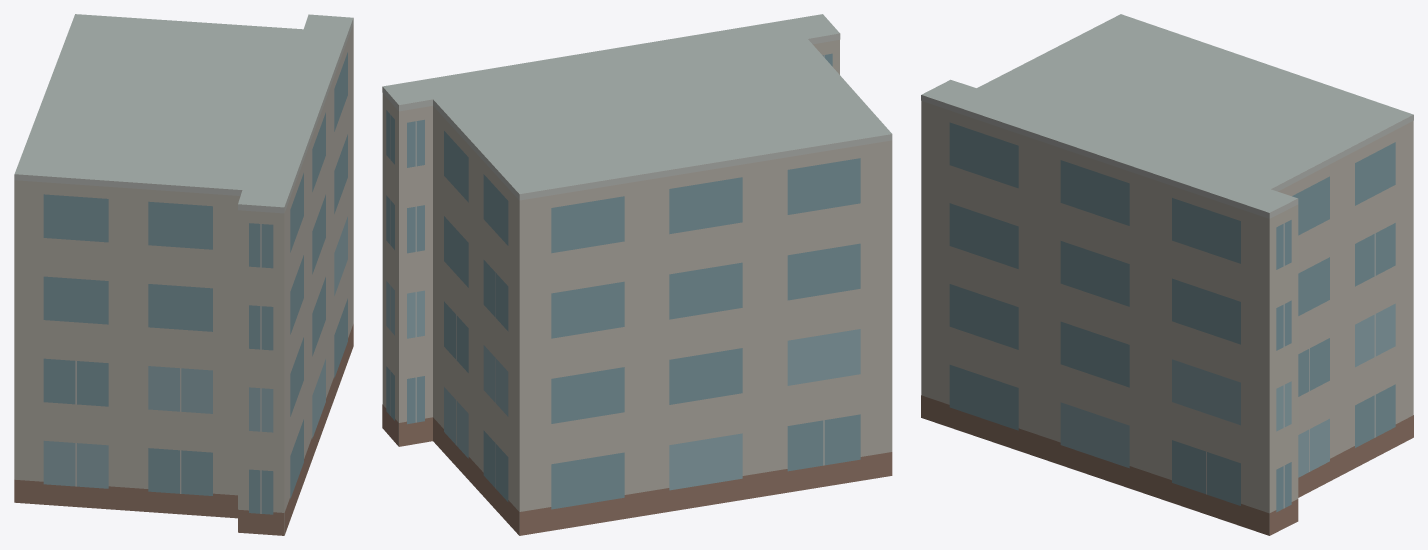
File: survey-upis-32948205.glb
3 renders of one model, left to right at view 1: azimuth 30°, elevation 25°; view 2: azimuth 150°, elevation 25°; view 3: azimuth 270°, elevation 25°, orthographic. The views are drawn at different scales.
Visible parts, largest first — view 1: survey-upis-32948205.tmp; view 2: survey-upis-32948205.tmp; view 3: survey-upis-32948205.tmp.
Boxes of the visible parts, x1,y1,x2,y2 form: survey-upis-32948205.tmp: (14, 14, 353, 535); survey-upis-32948205.tmp: (382, 14, 892, 535); survey-upis-32948205.tmp: (921, 14, 1413, 535).
Bounding box in the file's own units: 17.44 × 13.2 × 18.25.
